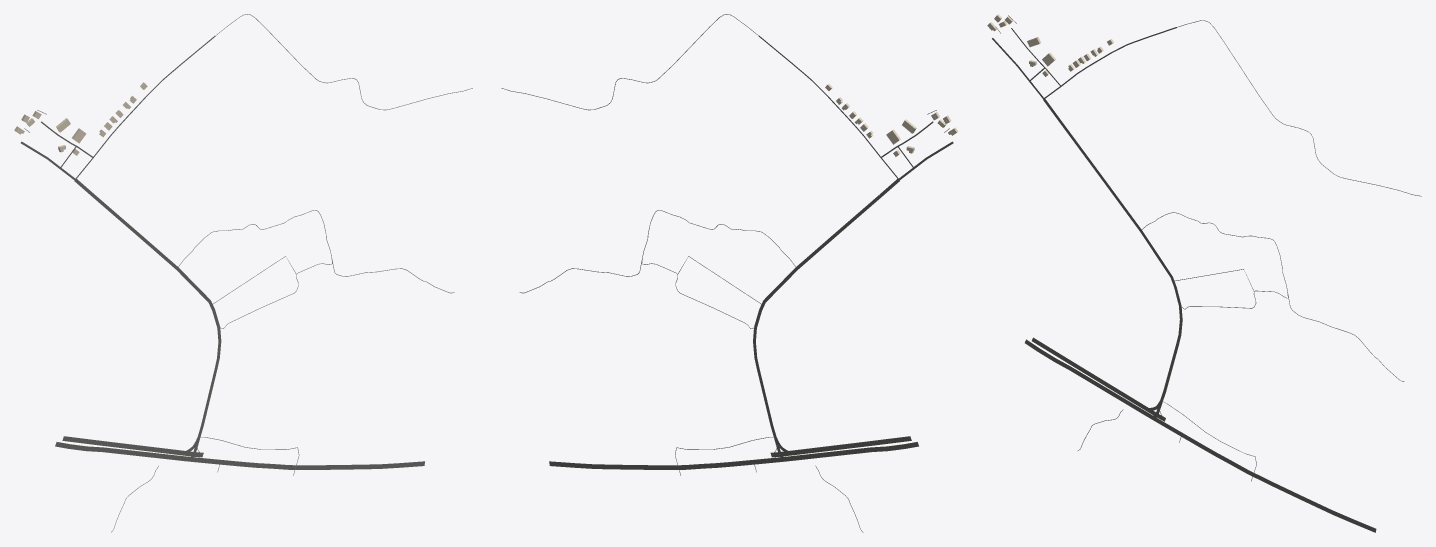
Rendered from historic-palestine-06_22_3480_3160.glb.
The picture shows the model from 3 angles, left to right: view 1: azimuth 30°, elevation 25°; view 2: azimuth 150°, elevation 25°; view 3: azimuth 330°, elevation 25°; orthographic projection. The views are drawn at different scales.
Parts seen in each view (by area): view 1: Road 35.001, Road 3542, Road 35.002, Road 35.003; view 2: Road 35.001, Road 3542, Road 35.002, Road 35.003; view 3: Road 35.001, Road 3542, Road 35.002, Road 35.003.
Part boxes in pixels (x1,y1,x2,y2): Road 35.001: (189, 457, 424, 469); Road 3542: (141, 236, 221, 436); Road 35.002: (55, 442, 189, 461); Road 35.003: (62, 436, 184, 455); Road 35.001: (549, 457, 785, 469); Road 3542: (753, 236, 832, 436); Road 35.002: (784, 442, 918, 461); Road 35.003: (789, 436, 911, 455); Road 35.001: (1151, 416, 1376, 532); Road 3542: (1106, 184, 1182, 401); Road 35.002: (1025, 339, 1152, 418); Road 35.003: (1032, 337, 1147, 410).
Size of the model in its own units: 1247 by 1291 by 8.7.
